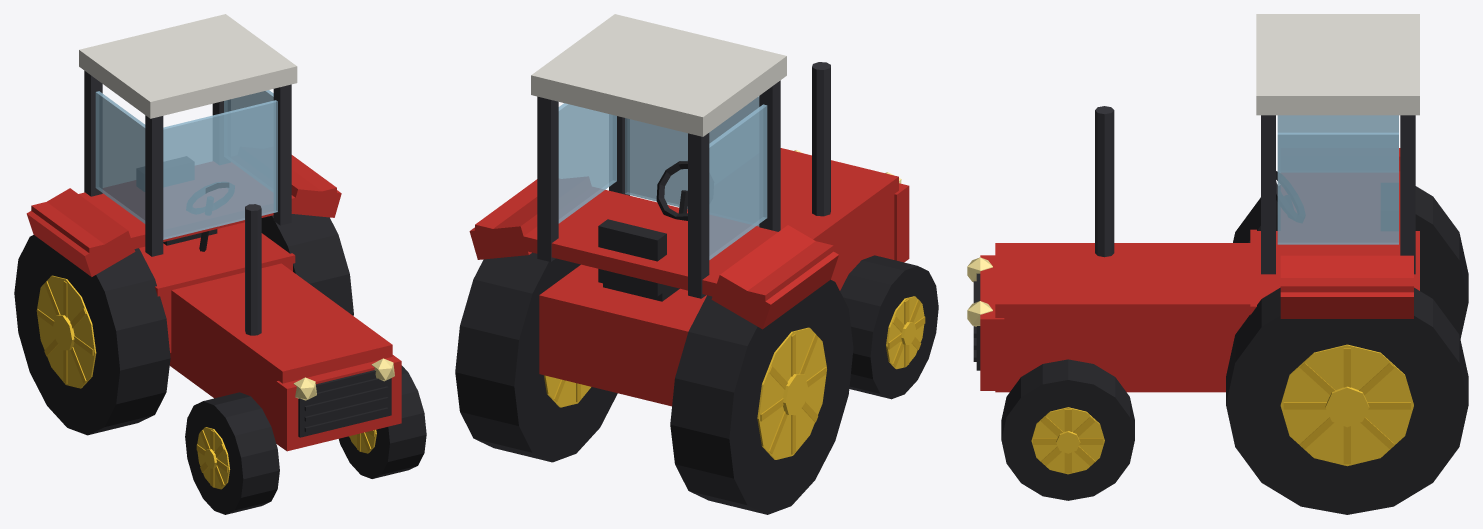
The model's file is Tractor.fbx.
The picture shows the model from 3 angles, left to right: view 1: azimuth 30°, elevation 25°; view 2: azimuth 150°, elevation 25°; view 3: azimuth 270°, elevation 25°; orthographic projection. The views are drawn at different scales.
Visible parts, largest first — view 1: Body, Tires, Glass, Roof, Frame, Hubs, Grille, Spokes, Lights; view 2: Tires, Body, Roof, Glass, Frame, Hubs, Seat, Spokes, Wheel; view 3: Body, Tires, Roof, Glass, Hubs, Frame, Spokes, Lights.
Part boxes in pixels (bbox=[...]): Body: bbox=[26, 155, 401, 451]; Tires: bbox=[14, 214, 426, 514]; Glass: bbox=[95, 90, 277, 239]; Roof: bbox=[79, 14, 297, 118]; Frame: bbox=[84, 70, 291, 335]; Hubs: bbox=[36, 275, 376, 489]; Grille: bbox=[298, 370, 391, 437]; Spokes: bbox=[37, 281, 374, 487]; Lights: bbox=[293, 358, 394, 400]; Tires: bbox=[455, 252, 938, 514]; Body: bbox=[469, 148, 909, 406]; Roof: bbox=[531, 14, 786, 136]; Glass: bbox=[558, 96, 767, 259]; Frame: bbox=[537, 62, 830, 298]; Hubs: bbox=[544, 296, 924, 459]; Seat: bbox=[598, 219, 679, 301]; Spokes: bbox=[553, 299, 925, 454]; Wheel: bbox=[656, 161, 687, 220]; Body: bbox=[980, 148, 1419, 392]; Tires: bbox=[1001, 186, 1468, 514]; Roof: bbox=[1256, 14, 1419, 115]; Glass: bbox=[1277, 115, 1398, 244]; Hubs: bbox=[1031, 344, 1413, 474]; Frame: bbox=[1095, 106, 1415, 274]; Spokes: bbox=[1033, 348, 1410, 473]; Lights: bbox=[967, 257, 992, 326].
Bounding box in the file's own units: 5.61 × 7.18 × 8.26.
